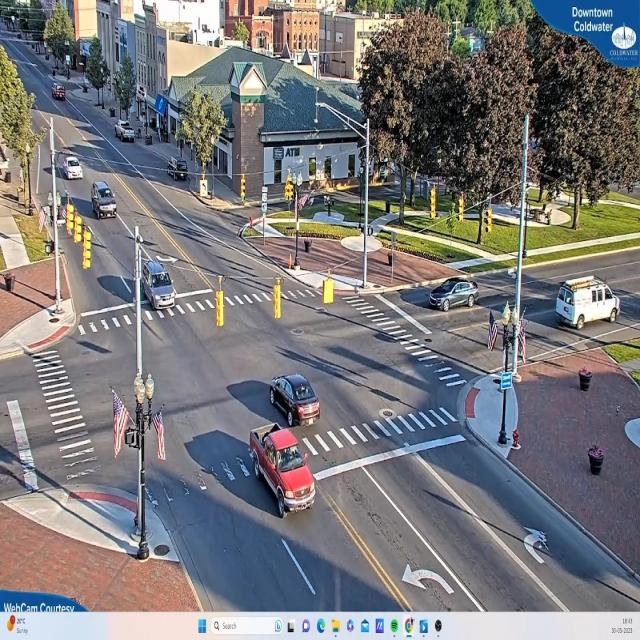car: (249, 425, 317, 514), (555, 276, 620, 328), (269, 375, 320, 427), (429, 280, 480, 310), (91, 181, 118, 218), (117, 121, 137, 145), (62, 158, 84, 178), (52, 85, 68, 100)
